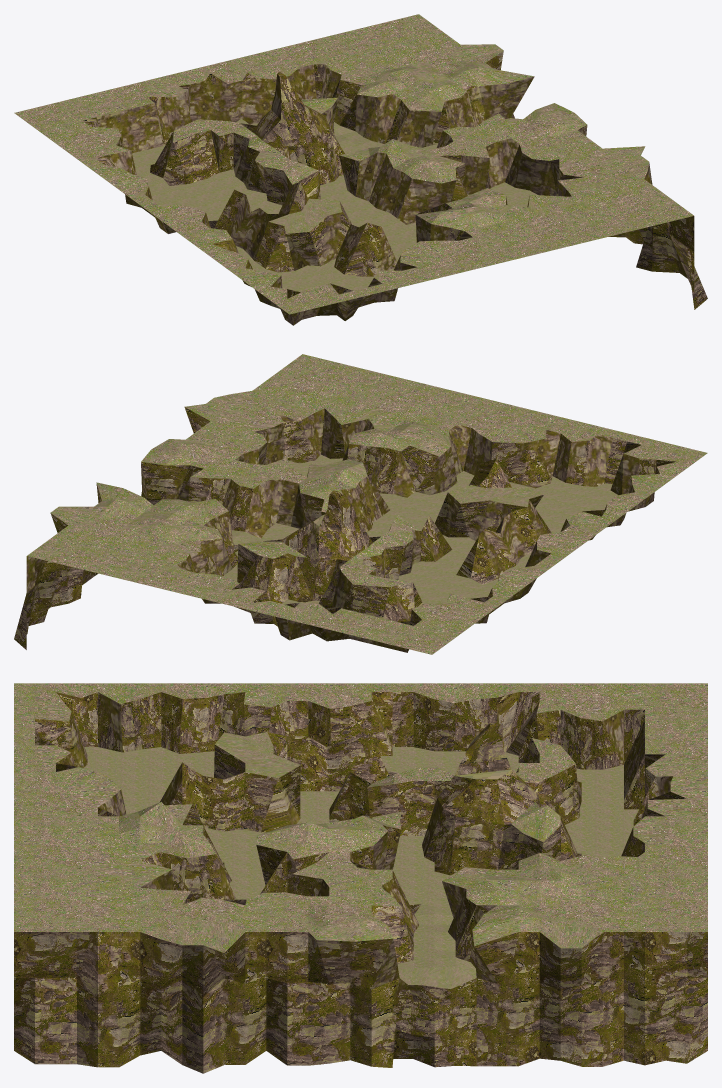
File: new metroidvaina map.glb
3 views of the same model, one above another, from view 1: azimuth 30°, elevation 25°; view 2: azimuth 150°, elevation 25°; view 3: azimuth 270°, elevation 25° (orthographic). The views are drawn at different scales.
Visible parts, largest first — view 1: Plane; view 2: Plane; view 3: Plane.
Part boxes in pixels (left/top/right/bottom): Plane: left=14, top=14, right=707, bottom=325; Plane: left=14, top=354, right=707, bottom=654; Plane: left=14, top=683, right=707, bottom=1073.
Bounding box in the file's own units: 27.81 × 9.05 × 30.
2 materials, 2 textured.
